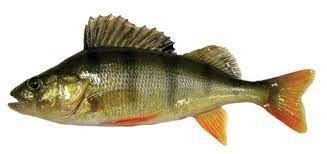Perch: (8, 13, 317, 147)
